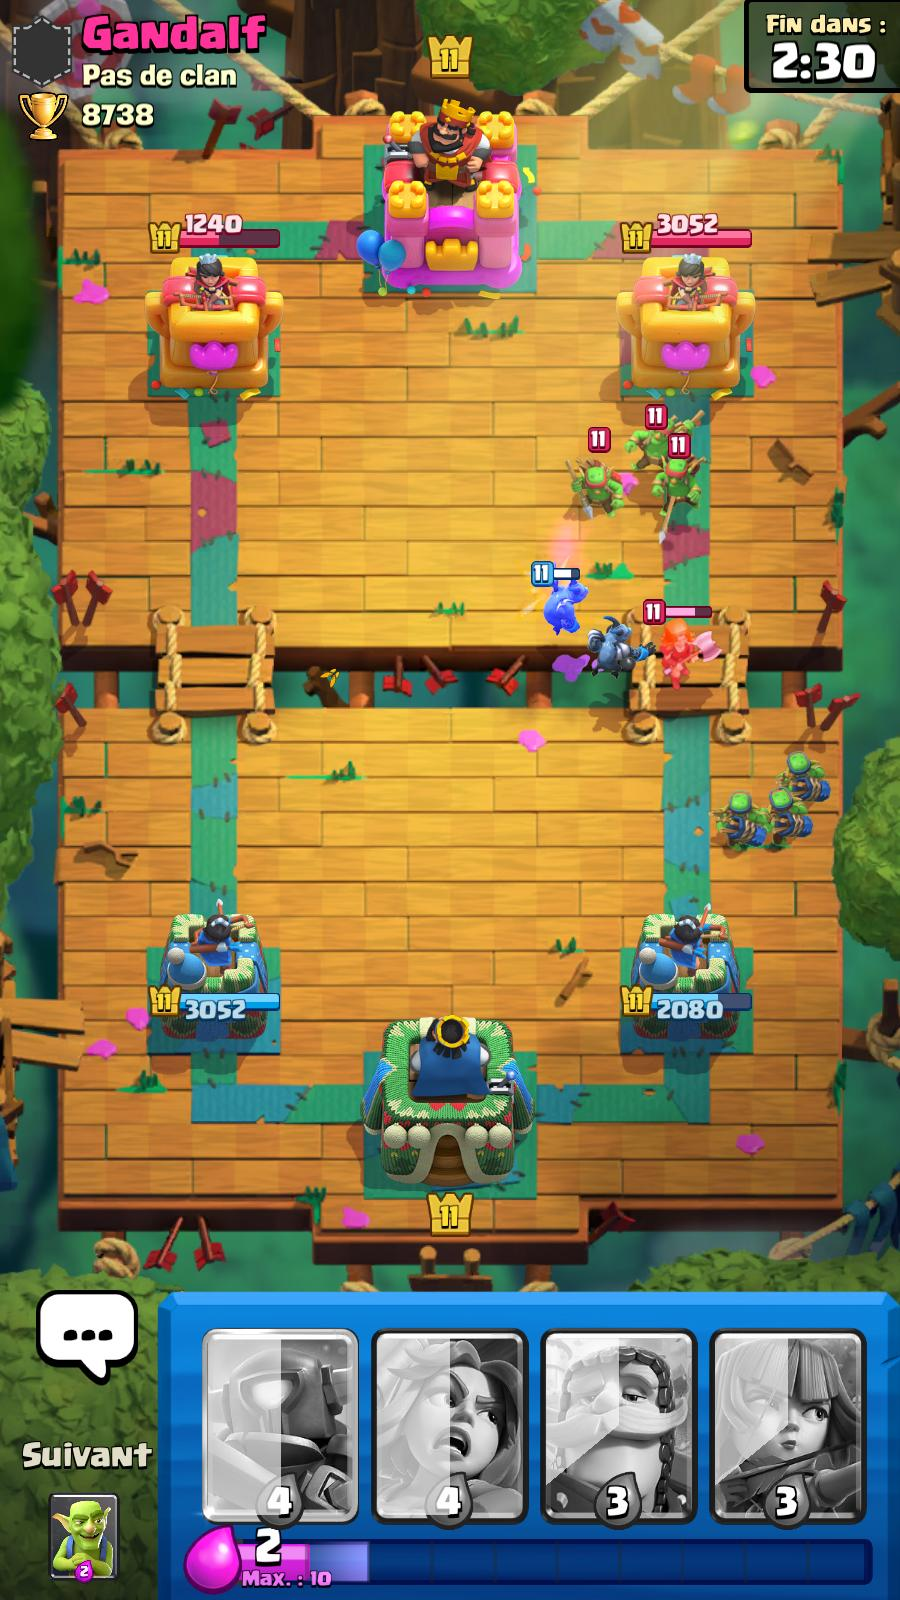gargouille: (524, 567, 598, 640), (586, 615, 634, 680)
gobelin_lances: (623, 408, 709, 471), (566, 452, 635, 519), (657, 459, 714, 526), (718, 789, 771, 852), (765, 791, 820, 847), (778, 745, 830, 804)
valkyrie: (643, 603, 732, 703)
